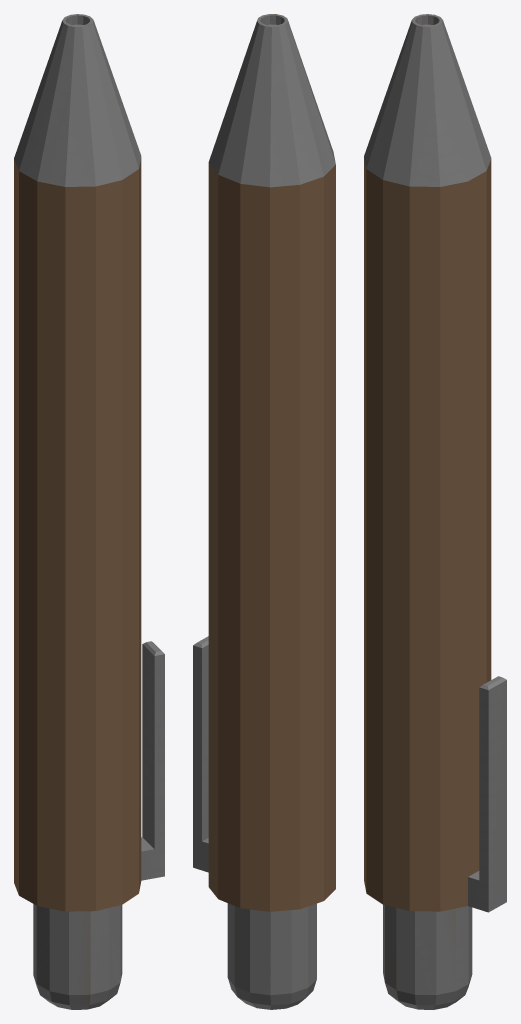
Rendered from pen2_painted.glb.
The picture shows the model from 3 angles, left to right: view 1: azimuth 30°, elevation 25°; view 2: azimuth 150°, elevation 25°; view 3: azimuth 330°, elevation 25°; orthographic projection.
Parts seen in each view (by area): view 1: Cylinder; view 2: Cylinder; view 3: Cylinder.
Boxes of the visible parts, box(x1,y1,x2,y2) form: Cylinder: box(14, 14, 164, 1009); Cylinder: box(193, 14, 335, 1009); Cylinder: box(364, 14, 506, 1009).
Size of the model in its own units: 0.0238 by 0.1683 by 0.0197.
1 material, 1 textured.
